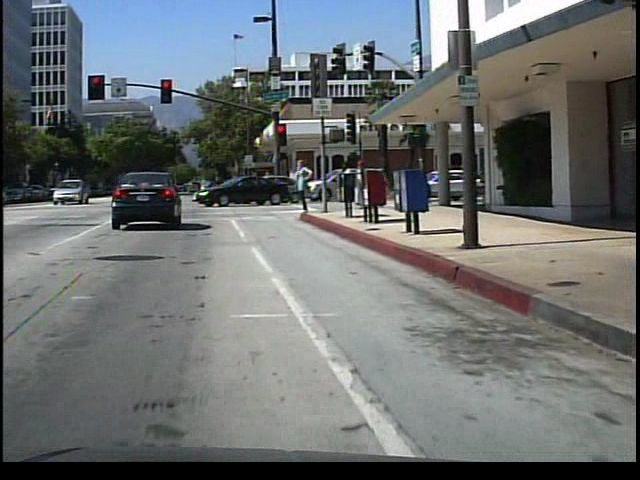person: (295, 152, 321, 217), (357, 154, 376, 209), (343, 155, 362, 209)
